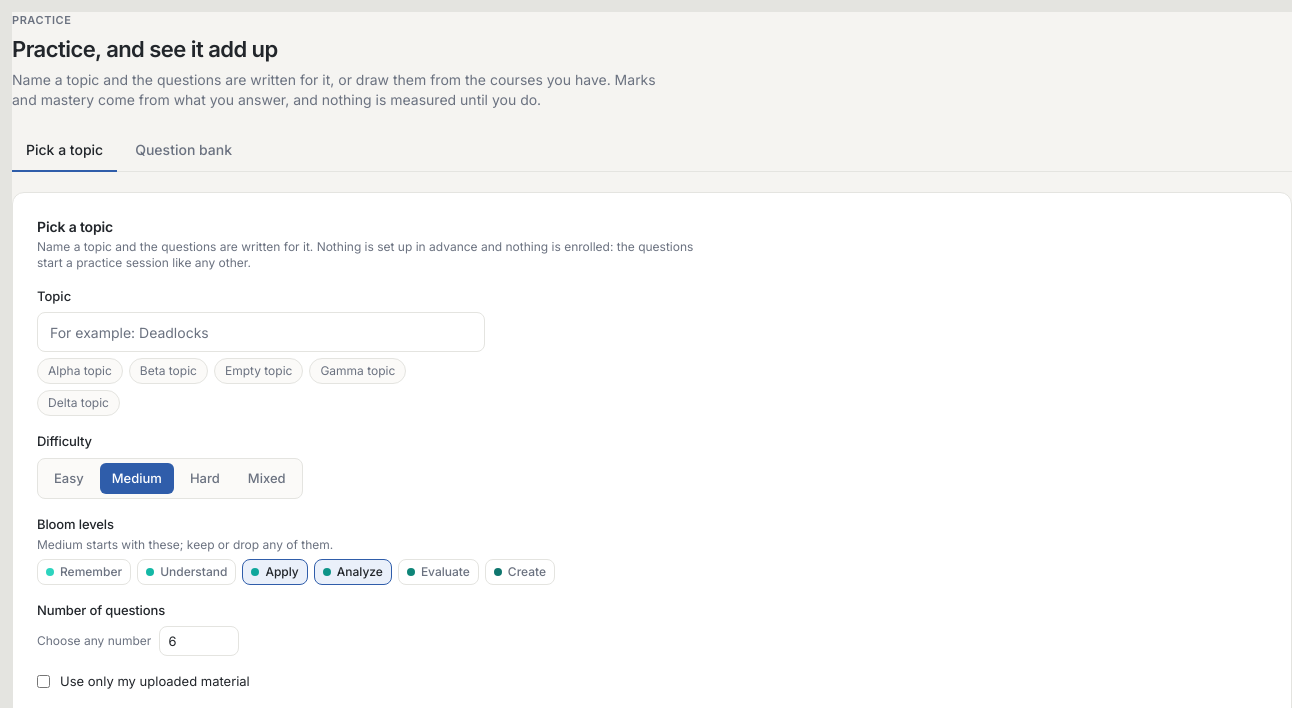
it: the board itself › lists each subject with its question count and its estimate
Click the tab "Question bank" at (184, 150), box [121,130,246,172]
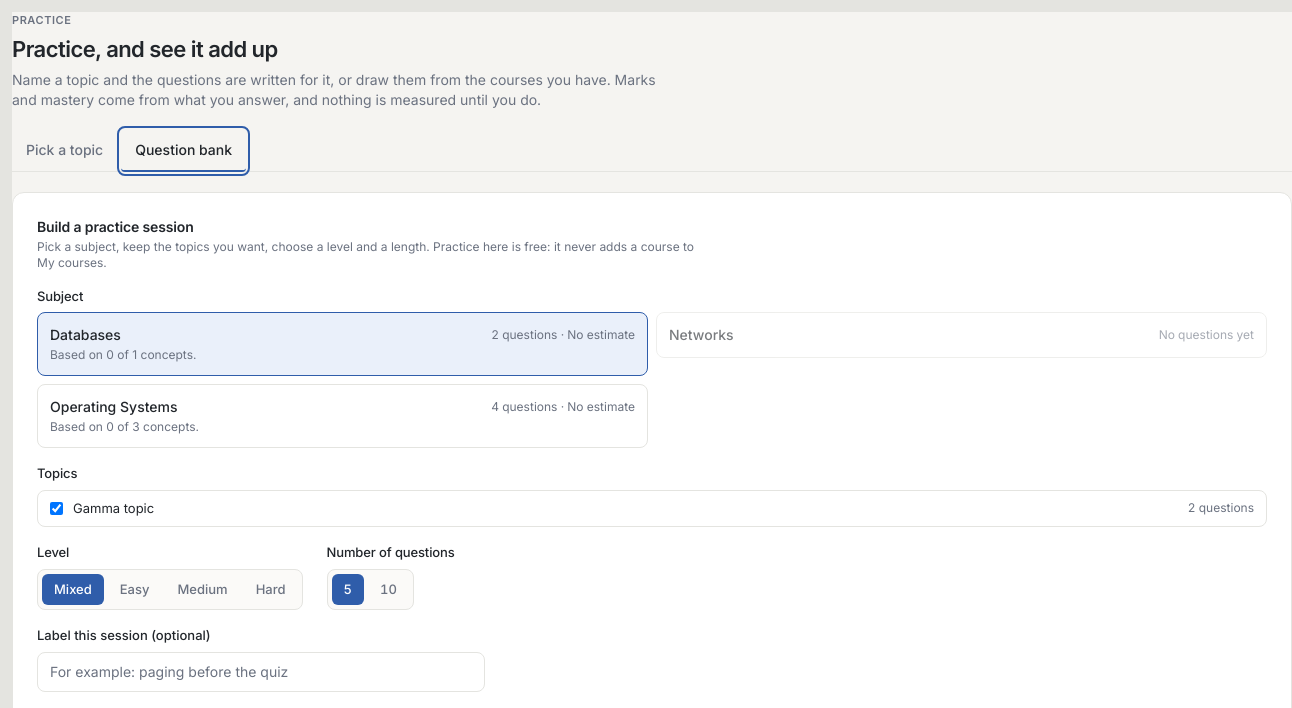
Now the button "Operating Systems" shows "4 questions", box [37,384,648,448]
Now the button "Databases" shows "2 questions", box [37,312,648,376]
Now the button "Databases" shows "No estimate", box [37,312,648,376]
